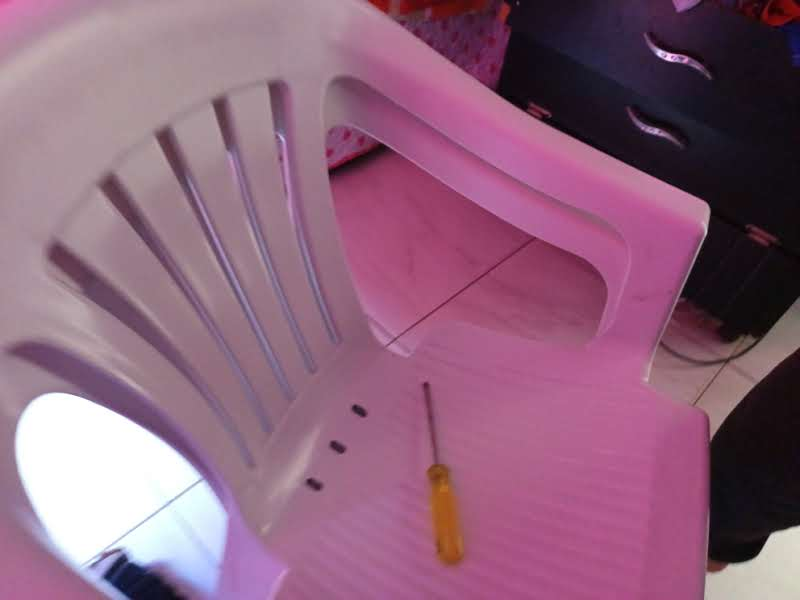Destornillador: (422, 382, 463, 563)
